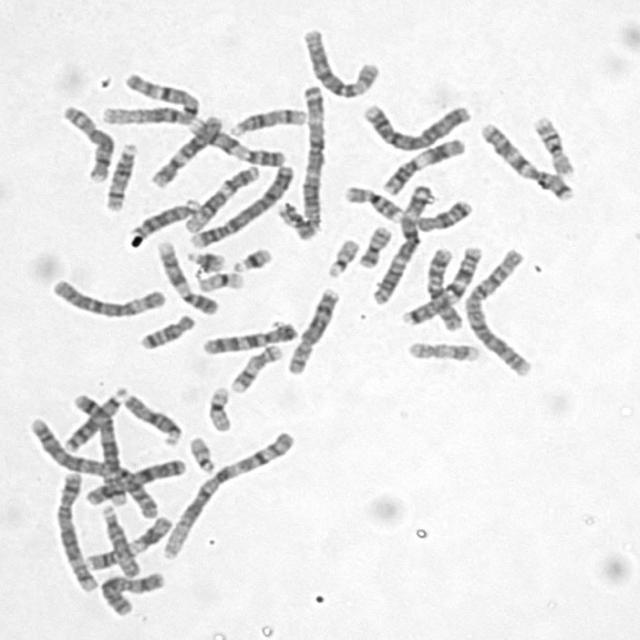A1: (154, 426, 298, 562), (96, 68, 202, 126)
A2: (26, 412, 164, 520), (459, 241, 536, 378)
A3: (366, 178, 436, 307), (294, 78, 329, 229)
B4: (184, 159, 297, 249), (356, 96, 473, 152)
B5: (66, 387, 133, 510), (50, 467, 100, 594)
C10: (195, 316, 301, 356), (422, 242, 465, 331)
C11: (79, 511, 175, 572), (378, 132, 468, 196)
C12: (145, 110, 225, 188), (178, 160, 262, 233)
C6: (297, 22, 381, 100), (46, 273, 168, 320)
C7: (475, 117, 576, 202), (396, 240, 484, 327)
C8: (282, 283, 343, 376), (55, 99, 115, 183)
C9: (183, 112, 288, 168), (150, 234, 222, 315)
D13: (60, 382, 130, 454), (128, 194, 202, 240)
D14: (100, 137, 140, 212), (224, 102, 308, 137)
D15: (117, 388, 183, 447), (96, 501, 142, 579)
E16: (527, 110, 577, 178), (339, 180, 405, 222)
E17: (225, 339, 285, 394), (402, 336, 483, 364)
E18: (134, 308, 197, 351), (411, 193, 475, 233)
F19: (201, 380, 234, 433), (192, 266, 246, 293)
F20: (272, 197, 318, 241), (354, 220, 394, 270)
G21: (227, 242, 274, 273), (181, 244, 226, 273)
G22: (321, 232, 362, 279), (183, 430, 218, 475)
X: (79, 453, 189, 506), (93, 566, 167, 618)
